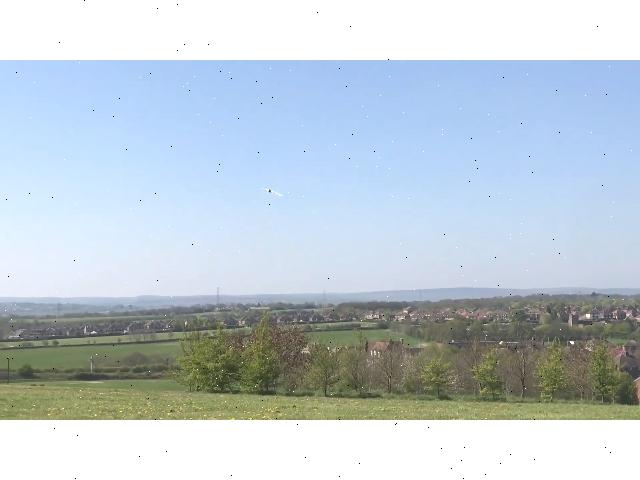Anti-Drone: (256, 181, 288, 206)
